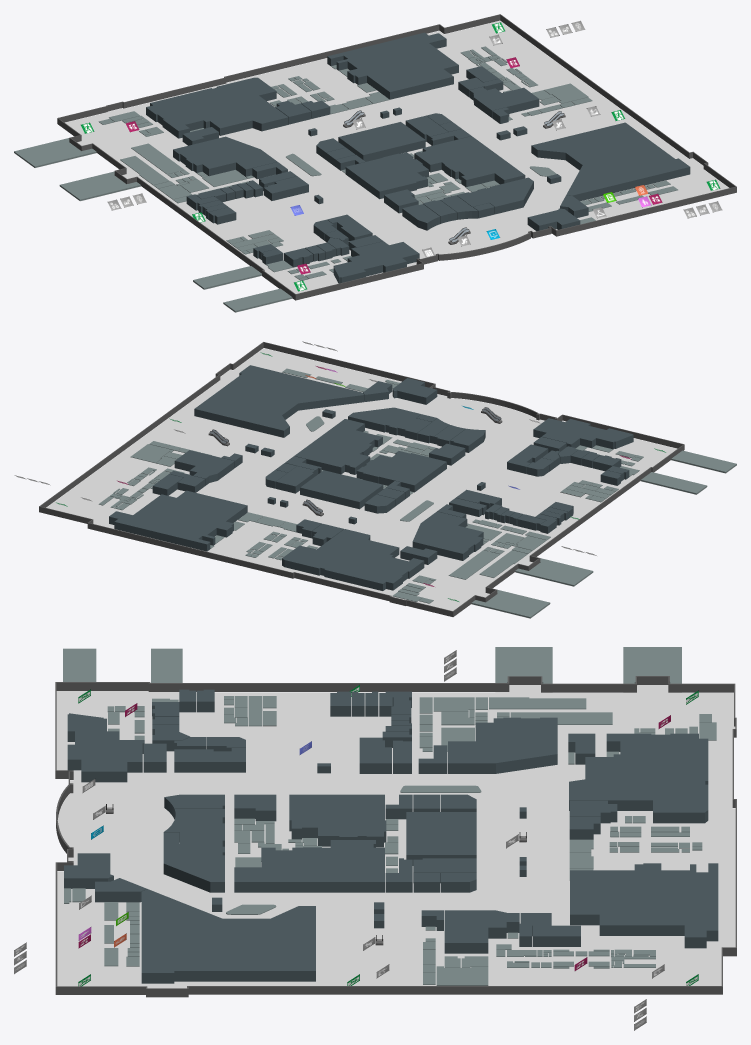
Rendered from second_floor1.gltf.
3 renders of one model, top to bottom at view 1: azimuth 30°, elevation 25°; view 2: azimuth 150°, elevation 25°; view 3: azimuth 270°, elevation 25°, orthographic. The views are drawn at different scales.
Parts seen in each view (by area): view 1: sf_ground, sf_frame, ff_f-56-57-58.001, ff_f-43-51.001, ff_f-37.001, ff_f-36.001, ff_f-35.001, ff_f-31.001, sf_tr_a.051, ff_f-70.001, sf_tr_a.050, ff_f-02.001 (+30 smaller); view 2: sf_ground, sf_frame, ff_f-56-57-58.001, ff_f-43-51.001, ff_f-37.001, ff_f-36.001, ff_f-35.001, sf_tr_a.051, sf_tr_a.050, ff_f-01.001, ff_f-62.001, ff_f-68.001 (+31 smaller); view 3: sf_ground, sf_frame, ff_f-56-57-58.001, ff_f-43-51.001, ff_f-37.001, ff_f-36.001, ff_f-02.001, ff_f-31.001, ff_f-62.001, ff_f-35.001, ff_f-70.001, sf_tr_a.051 (+46 smaller).
Boxes of the visible parts, x1=… form: sf_ground: x1=14, y1=21, x2=728, y2=312; sf_frame: x1=57, y1=14, x2=736, y2=300; ff_f-56-57-58.001: x1=531, y1=122, x2=690, y2=201; ff_f-43-51.001: x1=327, y1=32, x2=458, y2=99; ff_f-37.001: x1=146, y1=77, x2=273, y2=123; ff_f-36.001: x1=211, y1=89, x2=288, y2=131; ff_f-35.001: x1=160, y1=104, x2=237, y2=138; ff_f-31.001: x1=193, y1=148, x2=277, y2=176; sf_tr_a.051: x1=14, y1=138, x2=96, y2=167; ff_f-70.001: x1=364, y1=166, x2=428, y2=199; sf_tr_a.050: x1=59, y1=171, x2=140, y2=200; ff_f-02.001: x1=357, y1=241, x2=419, y2=272; sf_ground: x1=46, y1=348, x2=736, y2=618; sf_frame: x1=39, y1=342, x2=684, y2=616; ff_f-56-57-58.001: x1=194, y1=365, x2=364, y2=437; ff_f-43-51.001: x1=109, y1=490, x2=247, y2=551; ff_f-37.001: x1=282, y1=547, x2=404, y2=590; ff_f-36.001: x1=297, y1=529, x2=381, y2=561; ff_f-35.001: x1=357, y1=543, x2=424, y2=580; sf_tr_a.051: x1=471, y1=589, x2=550, y2=618; sf_tr_a.050: x1=515, y1=558, x2=593, y2=586; ff_f-01.001: x1=566, y1=426, x2=633, y2=449; ff_f-62.001: x1=348, y1=407, x2=412, y2=434; ff_f-68.001: x1=356, y1=464, x2=423, y2=492; sf_ground: x1=56, y1=685, x2=735, y2=988; sf_frame: x1=55, y1=676, x2=736, y2=997; ff_f-56-57-58.001: x1=141, y1=889, x2=315, y2=983; ff_f-43-51.001: x1=570, y1=863, x2=718, y2=948; ff_f-37.001: x1=661, y1=733, x2=708, y2=823; ff_f-36.001: x1=569, y1=769, x2=661, y2=823; ff_f-02.001: x1=67, y1=743, x2=142, y2=782; ff_f-31.001: x1=448, y1=718, x2=503, y2=773; ff_f-62.001: x1=163, y1=849, x2=224, y2=892; ff_f-35.001: x1=585, y1=733, x2=661, y2=769; ff_f-70.001: x1=289, y1=794, x2=330, y2=846; sf_tr_a.051: x1=623, y1=647, x2=681, y2=683.
Bounding box in the file's own units: 4.58 × 0.0932 × 3.66.
112 materials, 14 textured.
